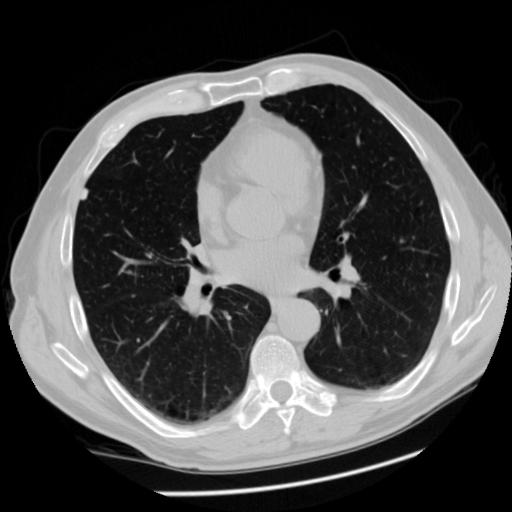nodule: (76, 186, 94, 204)
